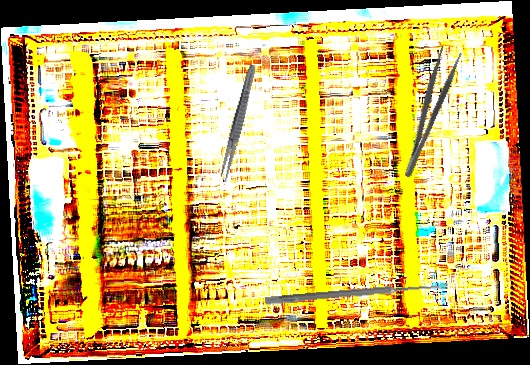Dressing Forceps: (391, 44, 464, 180), (217, 63, 259, 184)
Surgical Spoon: (264, 281, 449, 306)
